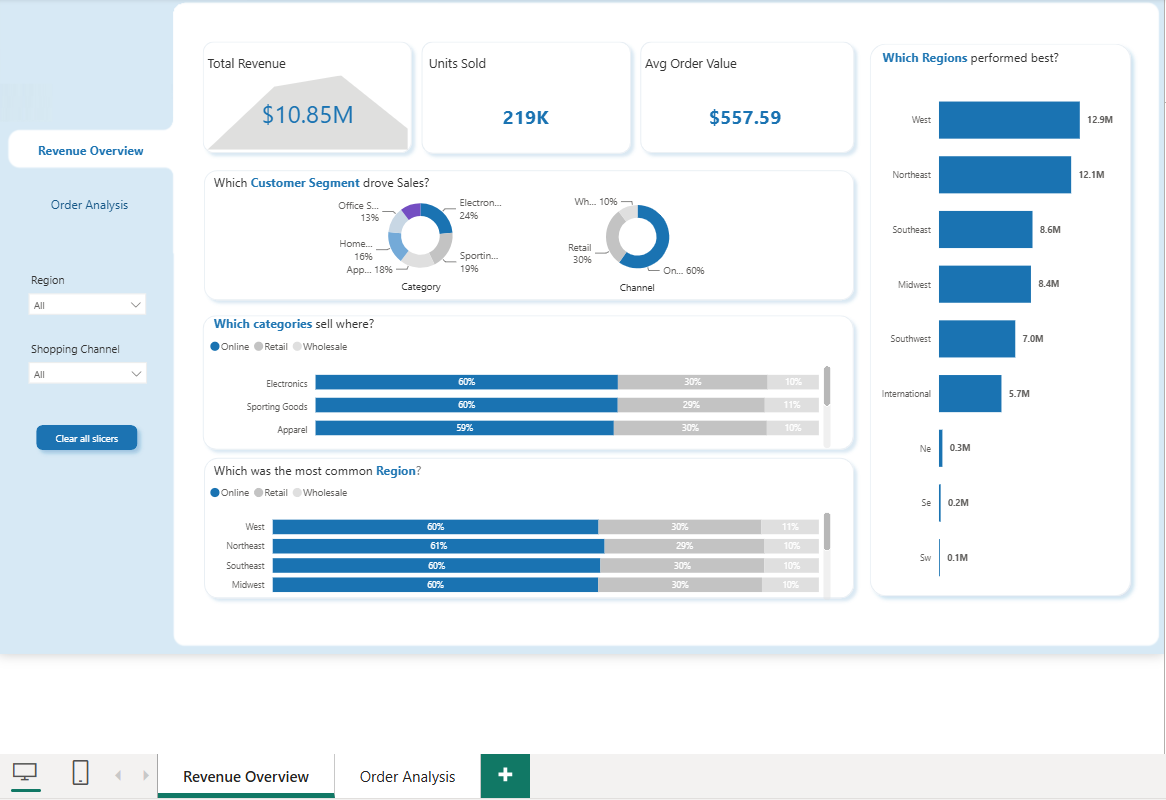

The page's visual inventory and layout, read from the dashboard file:
{"tool":"powerbi","page":{"name":"Revenue Overview","canvas":[1280,720],"ordinal":0},"visuals":[{"type":"shape","box":[456.6,40.4,245.8,139],"z":0},{"type":"shape","box":[696.6,40.4,250.8,138.2],"z":1000},{"type":"shape","box":[217.7,181.3,729.5,158.5],"z":2000},{"type":"shape","box":[216.8,340.8,730.5,163.4],"z":3000},{"type":"shape","box":[217.7,497.4,729.5,170.2],"z":4000},{"type":"shape","box":[948.2,41.2,304.4,624.4],"z":7000},{"type":"shape","box":[217.4,40.4,245.4,138.5],"z":9000},{"type":"actionButton","box":[10.5,147.5,181.8,40.4],"z":10000},{"type":"actionButton","box":[10,205.5,181.8,40],"z":11000},{"type":"textbox","box":[231.5,188.6,327.7,42.2],"z":12000},{"type":"textbox","box":[231.5,343.3,327.7,42.2],"z":13000},{"type":"textbox","box":[231.5,504.7,327.7,42.2],"z":14000},{"type":"textbox","box":[422.2,304.6,83.4,29.9],"z":17000},{"type":"textbox","box":[660.4,305.6,83.4,29.9],"z":18000},{"type":"slicer","fields":{"Values":["gold_dim_customer.region"]},"box":[23.3,296.4,149,69.5],"z":23000},{"type":"slicer","fields":{"Values":["gold_fact_revenue.channel"]},"box":[23.3,371.9,149.8,69.5],"z":25000},{"type":"hundredPercentStackedBarChart","fields":{"Category":["gold_dim_product.product_category"],"Series":["gold_fact_revenue.channel"],"Y":["gold_fact_revenue.Total Revenue"]},"box":[228.4,363.2,691.6,135.2],"z":28000},{"type":"hundredPercentStackedBarChart","fields":{"Category":["gold_dim_customer.region"],"Series":["gold_fact_revenue.channel"],"Y":["gold_fact_revenue.Total Revenue"]},"box":[228.4,524.6,691.6,142],"z":29000},{"type":"donutChart","title":"Which Customer Age Range drive Xmas Sales?","fields":{"Category":["gold_dim_product.product_category"],"Y":["gold_fact_revenue.Total Revenue"]},"box":[367.8,209.9,192.3,101.9],"z":30000},{"type":"donutChart","title":"Which Customer Age Range drive Xmas Sales?","fields":{"Category":["gold_fact_revenue.channel"],"Y":["gold_fact_revenue.Total Revenue"]},"box":[620,210.8,164.2,101.9],"z":31000},{"type":"textbox","box":[965.5,50.4,310.3,42.2],"z":35000},{"type":"clusteredBarChart","fields":{"Category":["gold_dim_customer.region"],"Y":["gold_fact_revenue.Total Revenue"]},"box":[958.9,77.2,270.4,588.4],"z":36000},{"type":"actionButton","box":[32.9,459.7,129.1,45.5],"z":37000},{"type":"kpi","title":"Total Revenue","fields":{"Indicator":["gold_fact_revenue.Total Revenue"],"TrendLine":["gold_dim_date.year"]},"box":[224.8,61.1,230.1,110.1],"z":38000},{"type":"cardVisual","title":"Units Sold","fields":{"Data":["gold_fact_revenue.Total Quantity"]},"box":[467.3,61.1,223.4,110.1],"z":39000},{"type":"cardVisual","title":"Avg Order Value","fields":{"Data":["gold_fact_revenue.Avg Order Value"]},"box":[705.7,61.1,230.9,110.1],"z":40000}]}

Visuals, with their boxes on the page's 1280x720 design canvas (x1, y1, x2, y2). These are canvas units, not pixel positions in the 1166x800 screenshot, which may show the page scaled, cropped or inside an application window:
shape: <bbox>457, 40, 702, 179</bbox>
shape: <bbox>697, 40, 947, 179</bbox>
shape: <bbox>218, 181, 947, 340</bbox>
shape: <bbox>217, 341, 947, 504</bbox>
shape: <bbox>218, 497, 947, 668</bbox>
shape: <bbox>948, 41, 1253, 666</bbox>
shape: <bbox>217, 40, 463, 179</bbox>
actionButton: <bbox>10, 148, 192, 188</bbox>
actionButton: <bbox>10, 206, 192, 246</bbox>
textbox: <bbox>232, 189, 559, 231</bbox>
textbox: <bbox>232, 343, 559, 386</bbox>
textbox: <bbox>232, 505, 559, 547</bbox>
textbox: <bbox>422, 305, 506, 334</bbox>
textbox: <bbox>660, 306, 744, 336</bbox>
slicer - gold_dim_customer.region: <bbox>23, 296, 172, 366</bbox>
slicer - gold_fact_revenue.channel: <bbox>23, 372, 173, 441</bbox>
hundredPercentStackedBarChart - gold_dim_product.product_category x gold_fact_revenue.channel: <bbox>228, 363, 920, 498</bbox>
hundredPercentStackedBarChart - gold_dim_customer.region x gold_fact_revenue.channel: <bbox>228, 525, 920, 667</bbox>
"Which Customer Age Range drive Xmas Sales?" donutChart: <bbox>368, 210, 560, 312</bbox>
"Which Customer Age Range drive Xmas Sales?" donutChart: <bbox>620, 211, 784, 313</bbox>
textbox: <bbox>966, 50, 1276, 93</bbox>
clusteredBarChart - gold_dim_customer.region x gold_fact_revenue.Total Revenue: <bbox>959, 77, 1229, 666</bbox>
actionButton: <bbox>33, 460, 162, 505</bbox>
"Total Revenue" kpi: <bbox>225, 61, 455, 171</bbox>
"Units Sold" cardVisual: <bbox>467, 61, 691, 171</bbox>
"Avg Order Value" cardVisual: <bbox>706, 61, 937, 171</bbox>
